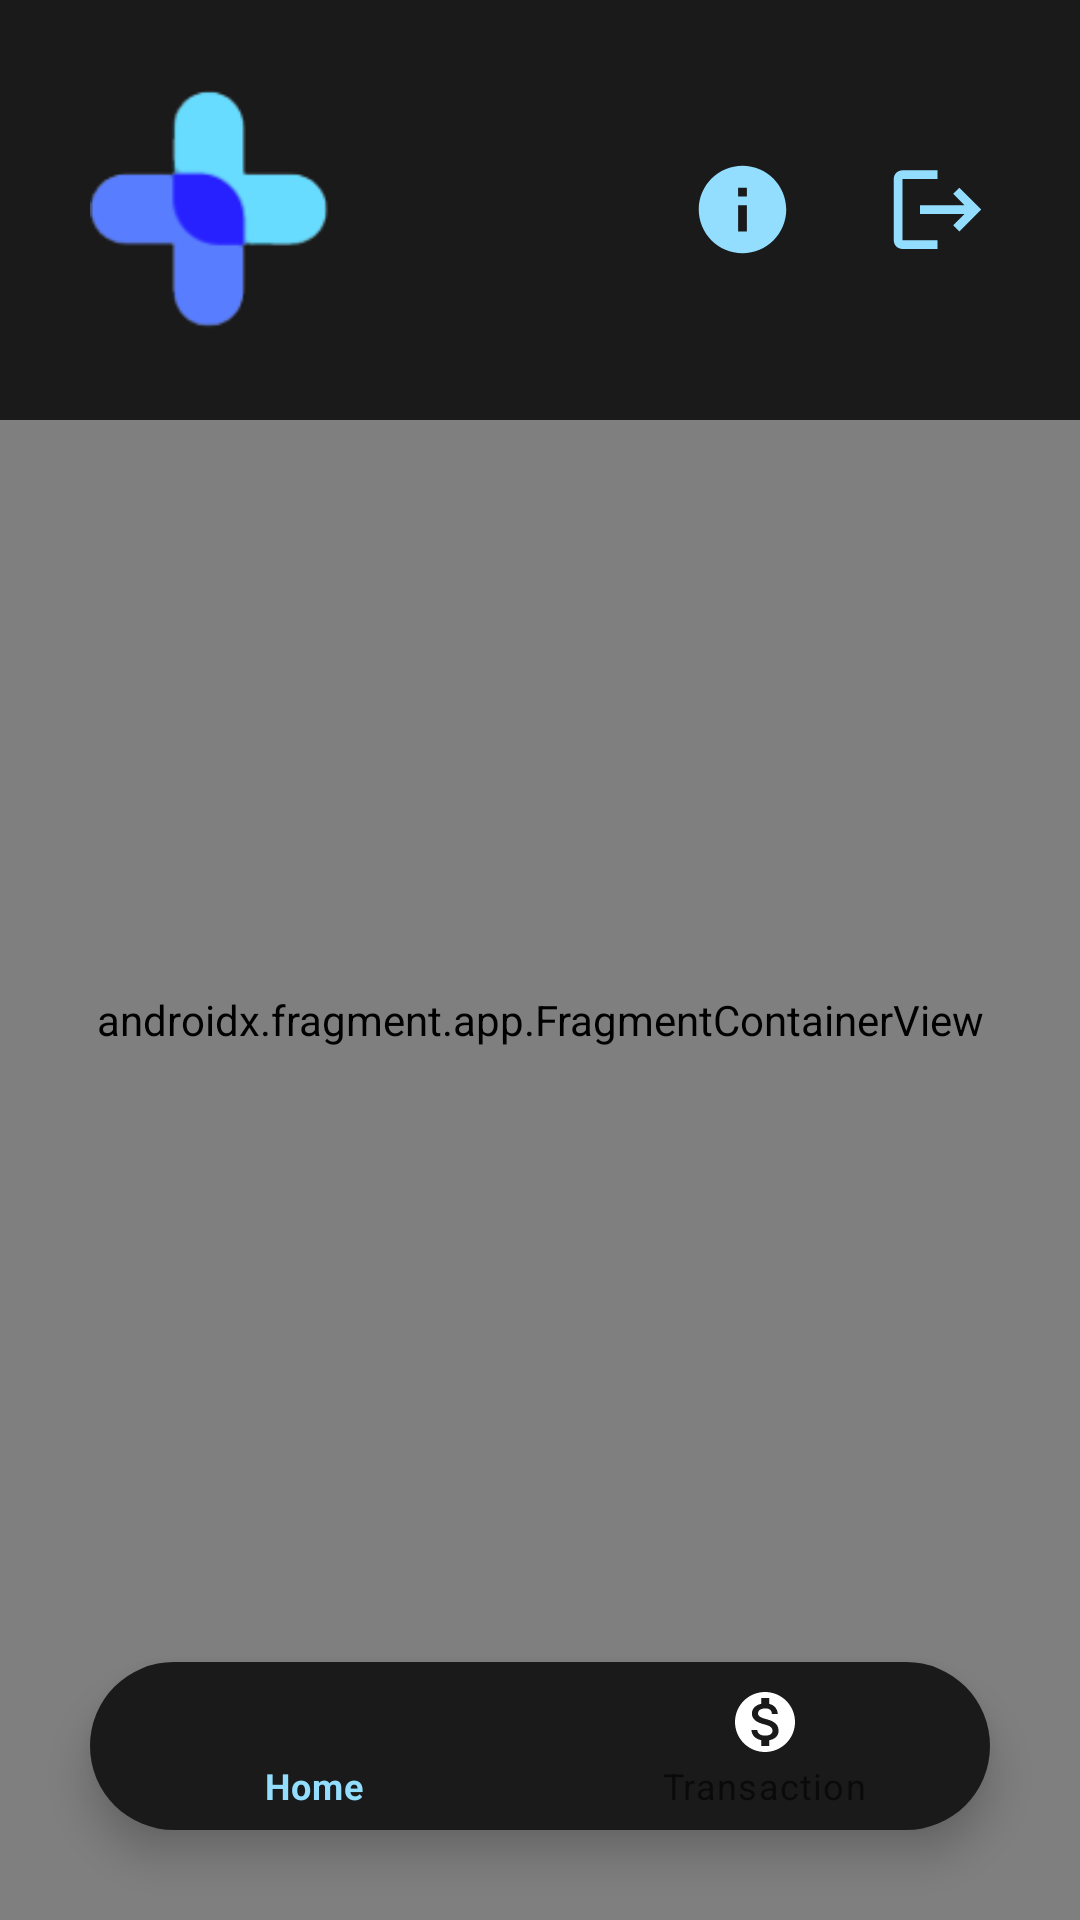

Screen size 1080 × 1920. Icon name, then its box in pixels as detection(x1, y1, x2, y2):
about us: detection(698, 165, 787, 254)
